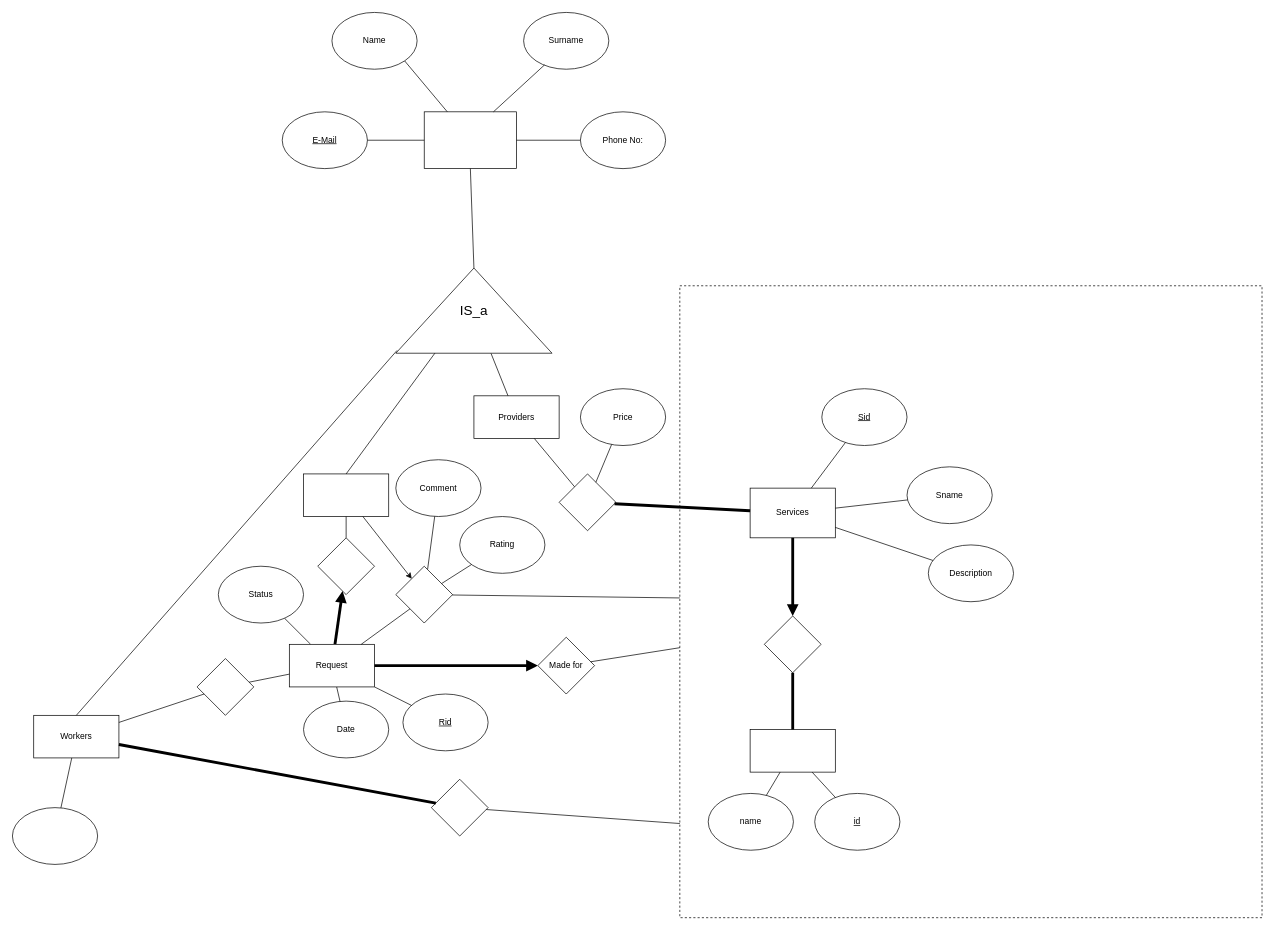
Image size: 1274x930. Some labels were removed from this diagram. Here are the shapes that lost their labels. From the top down, the box of each, then its label:
(424, 111, 517, 169): Users
(303, 473, 389, 517): Customer
(558, 473, 616, 531): Offers
(317, 537, 375, 595): Makes
(395, 566, 453, 623): Reviews
(764, 615, 821, 673): Has
(196, 658, 254, 715): Associated
(749, 729, 835, 772): Type
(431, 779, 488, 836): Perform
(12, 807, 98, 864): Salary
